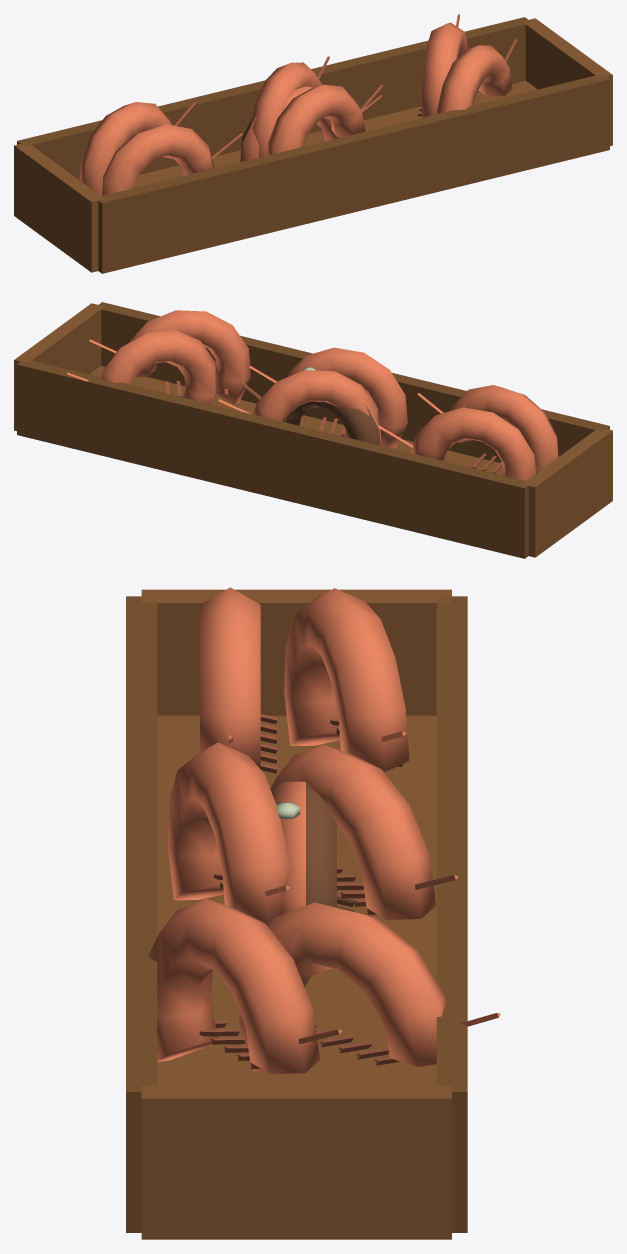
Rendered from Sea_Shrimp.fbx.
3 renders of one model, top to bottom at view 1: azimuth 30°, elevation 25°; view 2: azimuth 150°, elevation 25°; view 3: azimuth 270°, elevation 25°, orthographic. The views are drawn at different scales.
Visible parts, largest first — view 1: Sea_Shrimp__Stack, Sea_Shrimp; view 2: Sea_Shrimp__Stack, Sea_Shrimp__Rotten; view 3: Sea_Shrimp__Stack, Sea_Shrimp__Rotten, Sea_Shrimp.
Part boxes in pixels (<box>): Sea_Shrimp__Stack: <box>14,14,612,273</box>; Sea_Shrimp: <box>241,86,382,161</box>; Sea_Shrimp__Stack: <box>14,302,612,558</box>; Sea_Shrimp__Rotten: <box>240,367,380,445</box>; Sea_Shrimp__Stack: <box>126,587,500,1239</box>; Sea_Shrimp__Rotten: <box>276,782,353,911</box>; Sea_Shrimp: <box>274,781,351,913</box>.
Size of the model in its own units: 0.3097 by 0.0616 by 0.0964.
